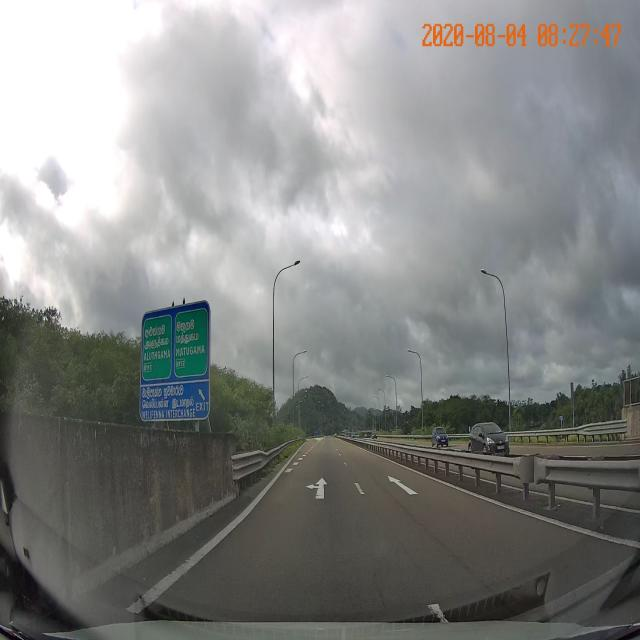forward_lft: (242, 474, 378, 518)
